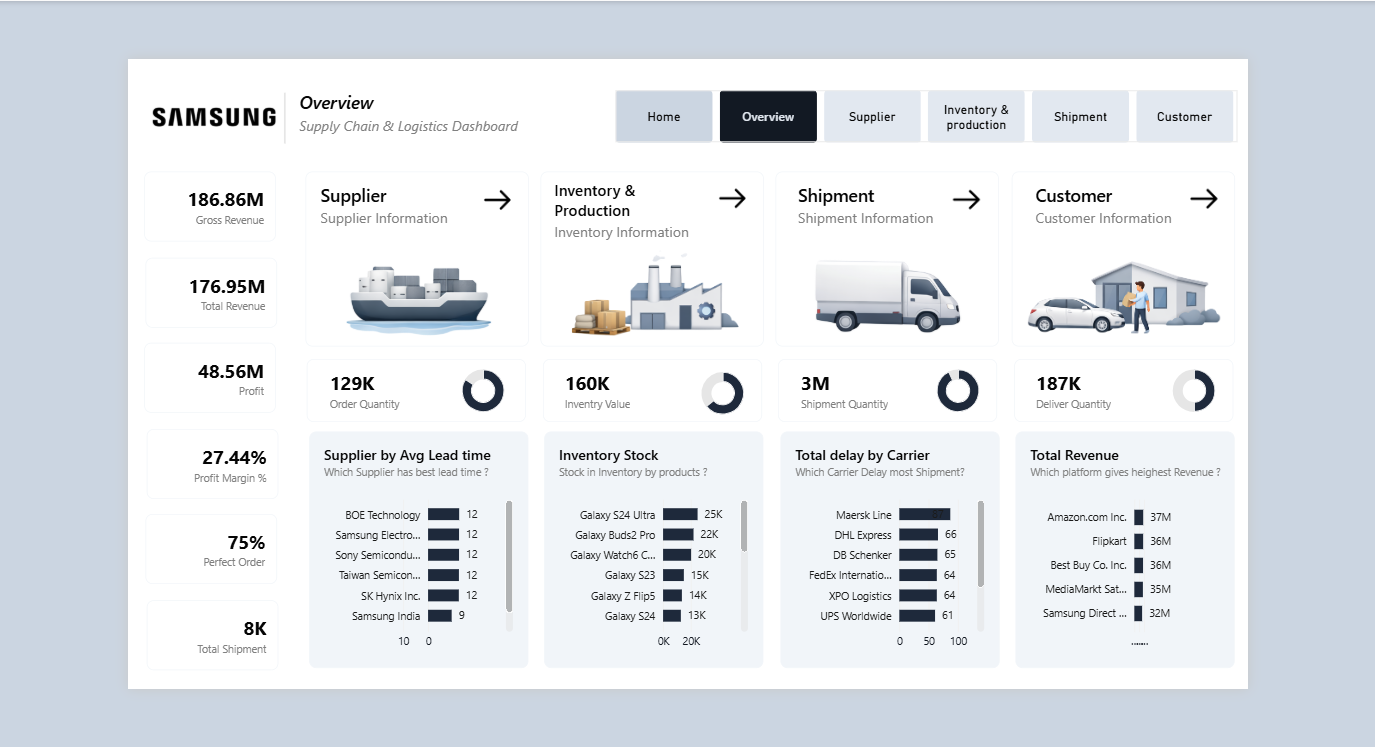

This screenshot's page, from the dashboard's own definition file:
{"tool":"powerbi","page":{"name":"Overview","canvas":[1280,720],"ordinal":1},"visuals":[{"type":"shape","box":[471.6,128.1,255,200],"z":0},{"type":"shape","box":[202.7,128.1,255,200],"z":1000},{"type":"shape","box":[1009.5,128.1,255,200],"z":2000},{"type":"shape","box":[740.6,128.1,255,200],"z":3000},{"type":"image","box":[485.5,194.5,220,140],"z":4000},{"type":"image","box":[1019.1,155.5,250,227.3],"z":5000},{"type":"image","box":[770,143.6,190.9,240],"z":6000},{"type":"image","box":[16.5,36.9,156,58],"z":7000},{"type":"image","box":[230.9,197.3,193.6,139.1],"z":8000},{"type":"image","box":[405.4,144.6,33.1,33.8],"z":9000},{"type":"image","box":[674.6,143.1,33.1,33.1],"z":10000},{"type":"image","box":[941.5,143.8,33.8,33.1],"z":11000},{"type":"image","box":[1212.3,143.1,33.8,33.8],"z":12000},{"type":"shape","title":"Supplier","box":[220,141.5,192.3,63.8],"z":13000},{"type":"shape","title":"Inventory & Production","box":[486.7,139.2,181.7,69.2],"z":14000},{"type":"shape","title":"Shipment","box":[766.2,141.5,192.3,63.8],"z":15000},{"type":"shape","title":"Customer","box":[1036.9,141.5,192.3,63.8],"z":16000},{"type":"shape","title":"Overview","box":[196.4,36.4,263.6,62.7],"z":17000},{"type":"shape","box":[159.1,38.9,41.3,58],"z":18000},{"type":"cardVisual","fields":{"Data":["Measure Table.Total_revenue"]},"box":[20,226.5,150,80],"z":19000},{"type":"cardVisual","fields":{"Data":["Measure Table.Profit"]},"box":[19.2,324.5,150,80],"z":20000},{"type":"cardVisual","fields":{"Data":["Measure Table.Profit Margin %"]},"box":[20.8,422.4,150,80],"z":21000},{"type":"cardVisual","fields":{"Data":["Measure Table.Total Shipment"]},"box":[21.7,618.3,150,80],"z":22000},{"type":"cardVisual","fields":{"Data":["Measure Table.Perfect_order"]},"box":[20,520.4,150,80],"z":23000},{"type":"cardVisual","fields":{"Data":["Sum(fact_sales.gross_revenue)"]},"box":[18.6,128.6,150,80],"z":24000},{"type":"shape","box":[204.8,343.4,250,71.7],"z":25000},{"type":"shape","box":[474,343.4,250,71.7],"z":26000},{"type":"shape","box":[743.1,343.4,250,71.7],"z":27000},{"type":"shape","box":[1012.3,343.4,250,71.7],"z":28000},{"type":"cardVisual","fields":{"Data":["Measure Table.Order_Qrt"]},"box":[218.1,343.4,111.7,71.7],"z":29000},{"type":"cardVisual","fields":{"Data":["Measure Table.Inventry Value"]},"box":[487.3,343.4,111.7,71.7],"z":30000},{"type":"cardVisual","fields":{"Data":["Measure Table.Total_Shipment_quantity"]},"box":[756.5,343.4,143.3,71.7],"z":31000},{"type":"cardVisual","fields":{"Data":["Measure Table.Total_deliver_qrt"]},"box":[1025.5,342.6,112.2,71.2],"z":32000},{"type":"barChart","title":"Supplier by Avg Lead time ","fields":{"Y":["Measure Table.Avg_lead_time"],"Category":["dim_supplier.supplier_name"]},"box":[207.4,426.3,250,270],"z":33000},{"type":"barChart","title":"Inventory Stock","fields":{"Y":["Measure Table.Inventry Value"],"Category":["dim_product.product_name"]},"box":[476,426.3,250,270],"z":34000},{"type":"barChart","title":"Total delay by Carrier","fields":{"Y":["Measure Table.Total_delay"],"Category":["fact_shipment.carrier"]},"box":[746,426.3,250,270],"z":35000},{"type":"barChart","title":"Total Revenue ","fields":{"Category":["dim_customer.customer_name"],"Y":["Measure Table.Total_revenue"]},"box":[1014.6,426.3,250,270],"z":36000},{"type":"donutChart","fields":{"Y":["Measure Table.Order_Qrt","Measure Table.Defect_Rate"]},"box":[333.8,333.8,143.1,90.8],"z":37000},{"type":"donutChart","fields":{"Y":["Measure Table.Inventry Value","Measure Table.Safty Stock"]},"box":[613.8,336.9,130.8,90.8],"z":38000},{"type":"donutChart","fields":{"Y":["Measure Table.Total Shipment","Measure Table.Total_delay"]},"box":[889.2,333.8,120,90.8],"z":39000},{"type":"donutChart","fields":{"Y":["Measure Table.Total_deliver_qrt","Measure Table.Total_qrt_delay"]},"box":[1157.7,333.8,122.3,90.8],"z":40000},{"type":"shape","box":[398.6,141.4,45.9,38.6],"z":41000},{"type":"shape","box":[668.6,140.9,45.9,38.6],"z":42000},{"type":"shape","box":[938.2,140,45.9,38.6],"z":43000},{"type":"shape","box":[1205.9,140.5,45.9,38.6],"z":44000},{"type":"pageNavigator","box":[557.5,36.2,711.2,60],"z":44001}]}

Visuals, with their boxes on the page's 1280x720 design canvas (x1, y1, x2, y2). These are canvas units, not pixel positions in the 1375x747 screenshot, which may show the page scaled, cropped or inside an application window:
shape: pyautogui.locateOnScreen(472, 128, 727, 328)
shape: pyautogui.locateOnScreen(203, 128, 458, 328)
shape: pyautogui.locateOnScreen(1010, 128, 1264, 328)
shape: pyautogui.locateOnScreen(741, 128, 996, 328)
image: pyautogui.locateOnScreen(486, 194, 706, 334)
image: pyautogui.locateOnScreen(1019, 156, 1269, 383)
image: pyautogui.locateOnScreen(770, 144, 961, 384)
image: pyautogui.locateOnScreen(16, 37, 172, 95)
image: pyautogui.locateOnScreen(231, 197, 424, 336)
image: pyautogui.locateOnScreen(405, 145, 438, 178)
image: pyautogui.locateOnScreen(675, 143, 708, 176)
image: pyautogui.locateOnScreen(942, 144, 975, 177)
image: pyautogui.locateOnScreen(1212, 143, 1246, 177)
"Supplier" shape: pyautogui.locateOnScreen(220, 142, 412, 205)
"Inventory & Production" shape: pyautogui.locateOnScreen(487, 139, 668, 208)
"Shipment" shape: pyautogui.locateOnScreen(766, 142, 958, 205)
"Customer" shape: pyautogui.locateOnScreen(1037, 142, 1229, 205)
"Overview" shape: pyautogui.locateOnScreen(196, 36, 460, 99)
shape: pyautogui.locateOnScreen(159, 39, 200, 97)
cardVisual - Measure Table.Total_revenue: pyautogui.locateOnScreen(20, 226, 170, 306)
cardVisual - Measure Table.Profit: pyautogui.locateOnScreen(19, 324, 169, 404)
cardVisual - Measure Table.Profit Margin %: pyautogui.locateOnScreen(21, 422, 171, 502)
cardVisual - Measure Table.Total Shipment: pyautogui.locateOnScreen(22, 618, 172, 698)
cardVisual - Measure Table.Perfect_order: pyautogui.locateOnScreen(20, 520, 170, 600)
cardVisual - Sum(fact_sales.gross_revenue): pyautogui.locateOnScreen(19, 129, 169, 209)
shape: pyautogui.locateOnScreen(205, 343, 455, 415)
shape: pyautogui.locateOnScreen(474, 343, 724, 415)
shape: pyautogui.locateOnScreen(743, 343, 993, 415)
shape: pyautogui.locateOnScreen(1012, 343, 1262, 415)
cardVisual - Measure Table.Order_Qrt: pyautogui.locateOnScreen(218, 343, 330, 415)
cardVisual - Measure Table.Inventry Value: pyautogui.locateOnScreen(487, 343, 599, 415)
cardVisual - Measure Table.Total_Shipment_quantity: pyautogui.locateOnScreen(756, 343, 900, 415)
cardVisual - Measure Table.Total_deliver_qrt: pyautogui.locateOnScreen(1026, 343, 1138, 414)
"Supplier by Avg Lead time " barChart: pyautogui.locateOnScreen(207, 426, 457, 696)
"Inventory Stock" barChart: pyautogui.locateOnScreen(476, 426, 726, 696)
"Total delay by Carrier" barChart: pyautogui.locateOnScreen(746, 426, 996, 696)
"Total Revenue " barChart: pyautogui.locateOnScreen(1015, 426, 1265, 696)
donutChart - Measure Table.Order_Qrt x Measure Table.Defect_Rate: pyautogui.locateOnScreen(334, 334, 477, 425)
donutChart - Measure Table.Inventry Value x Measure Table.Safty Stock: pyautogui.locateOnScreen(614, 337, 745, 428)
donutChart - Measure Table.Total Shipment x Measure Table.Total_delay: pyautogui.locateOnScreen(889, 334, 1009, 425)
donutChart - Measure Table.Total_deliver_qrt x Measure Table.Total_qrt_delay: pyautogui.locateOnScreen(1158, 334, 1280, 425)
shape: pyautogui.locateOnScreen(399, 141, 444, 180)
shape: pyautogui.locateOnScreen(669, 141, 714, 180)
shape: pyautogui.locateOnScreen(938, 140, 984, 179)
shape: pyautogui.locateOnScreen(1206, 140, 1252, 179)
pageNavigator: pyautogui.locateOnScreen(558, 36, 1269, 96)
